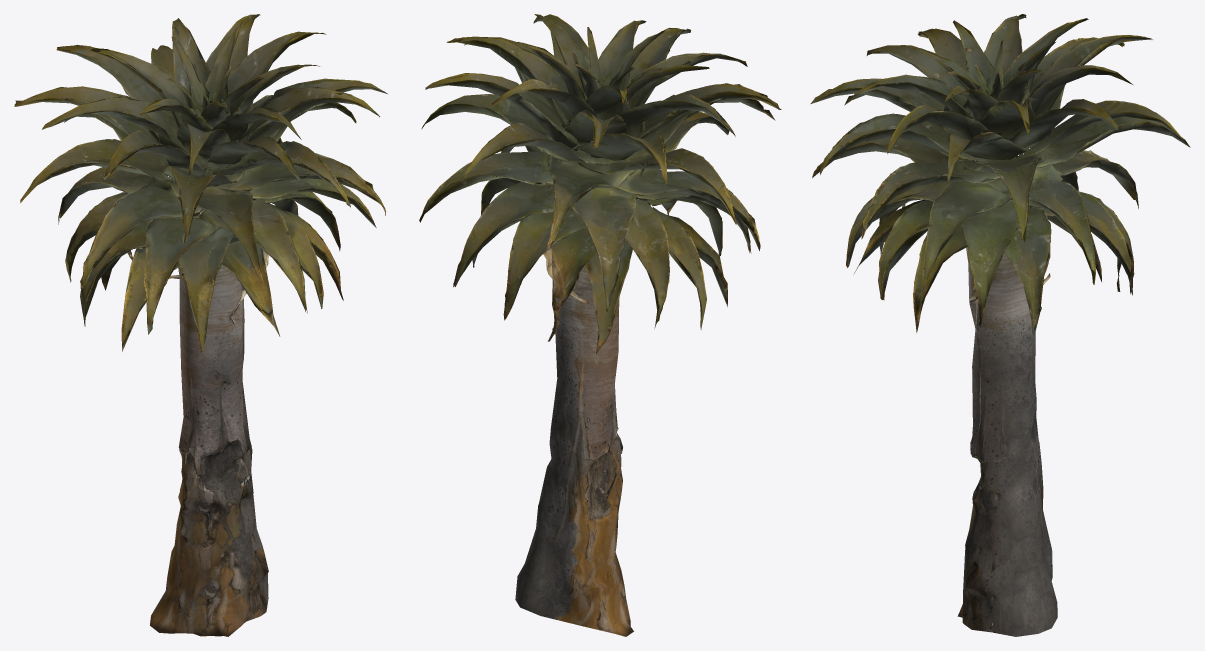
File: quiver_tree_02.glb
3 views of the same model, side by side, from view 1: azimuth 30°, elevation 25°; view 2: azimuth 150°, elevation 25°; view 3: azimuth 270°, elevation 25° (orthographic).
Parts seen in each view (by area): view 1: quiver_tree_02; view 2: quiver_tree_02; view 3: quiver_tree_02.
Boxes of the visible parts, box(x1,y1,x2,y2) form: quiver_tree_02: box(14, 14, 387, 636); quiver_tree_02: box(419, 14, 781, 636); quiver_tree_02: box(810, 14, 1190, 636).
Size of the model in its own units: 0.8709 by 1.47 by 0.8749.
1 material, 1 textured.
